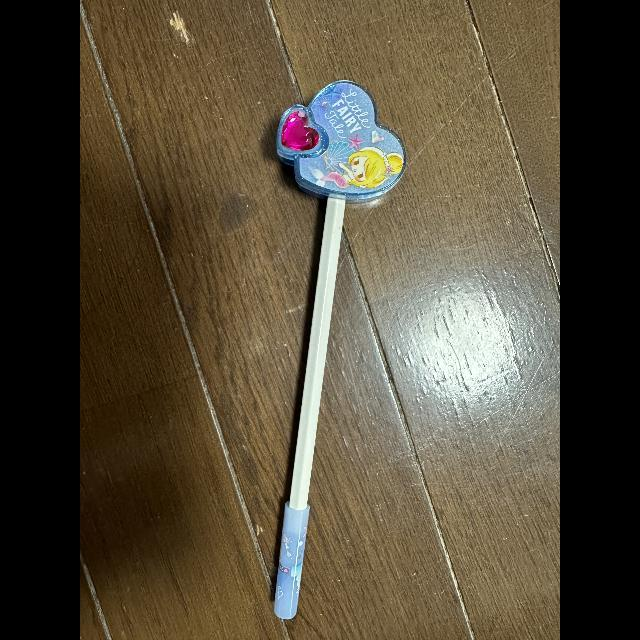pencil: (262, 191, 354, 626)
